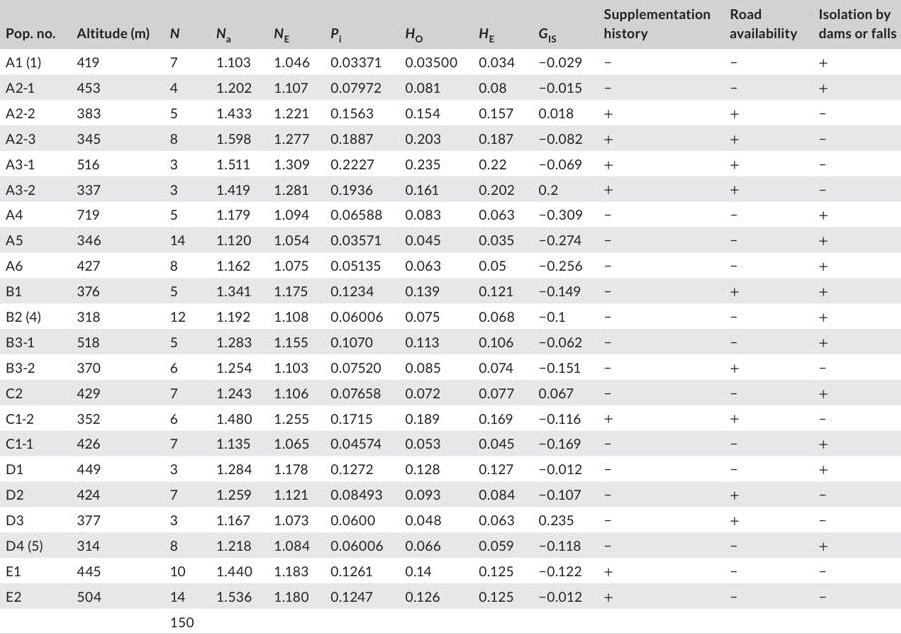table: (4, 4, 895, 629)
table column: (592, 4, 719, 629), (65, 4, 159, 629), (719, 4, 807, 629), (807, 4, 895, 629), (319, 4, 393, 629), (393, 4, 467, 629), (526, 4, 592, 629), (4, 4, 65, 629), (467, 4, 526, 629), (204, 4, 262, 629), (262, 4, 319, 629), (159, 4, 204, 629)
table column header: (4, 4, 895, 47)
table row: (4, 4, 895, 47), (4, 47, 895, 74), (4, 74, 895, 100), (4, 125, 895, 151), (4, 176, 895, 202), (4, 227, 895, 253), (4, 303, 895, 329), (4, 354, 895, 380), (4, 405, 895, 431), (4, 481, 895, 507), (4, 532, 895, 558), (4, 583, 895, 609), (4, 100, 895, 125), (4, 151, 895, 176), (4, 202, 895, 227), (4, 253, 895, 278), (4, 278, 895, 303), (4, 329, 895, 354), (4, 380, 895, 405), (4, 431, 895, 456), (4, 456, 895, 481), (4, 507, 895, 532), (4, 558, 895, 583), (4, 609, 895, 629)
table spanning cell: (4, 583, 65, 629)
